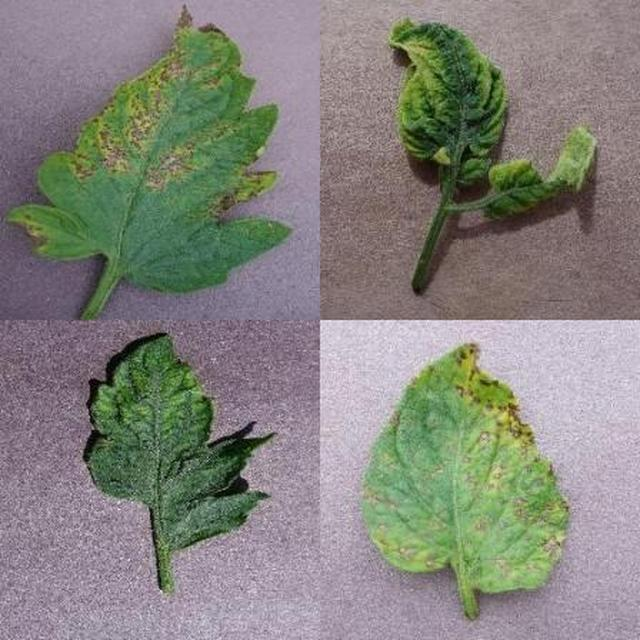Septoria Leaf: (163, 135, 640, 640)
